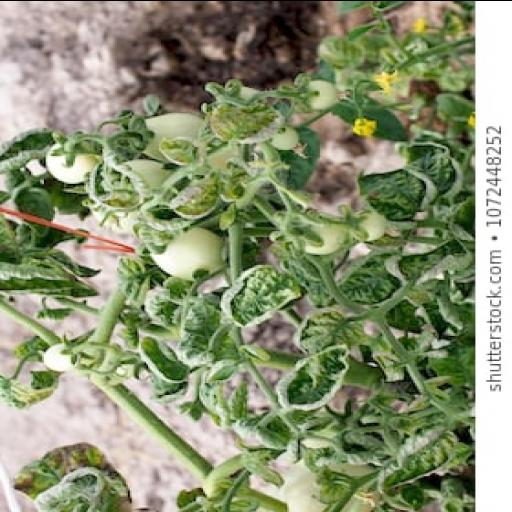Yellow Leaf Curl Virus: (366, 419, 468, 493), (222, 258, 300, 332), (344, 166, 442, 224), (274, 340, 351, 410), (337, 248, 413, 304), (206, 100, 300, 142), (164, 164, 226, 222), (137, 274, 203, 326), (172, 288, 216, 362), (294, 307, 350, 360), (134, 335, 194, 380), (158, 134, 206, 166)
